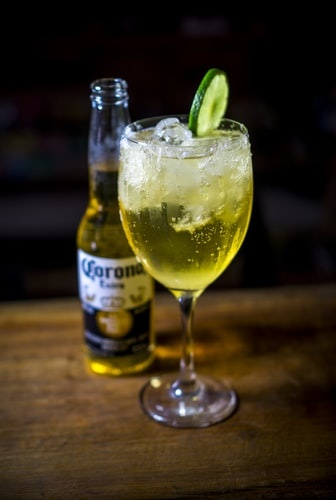whiskey: (117, 111, 261, 426)
